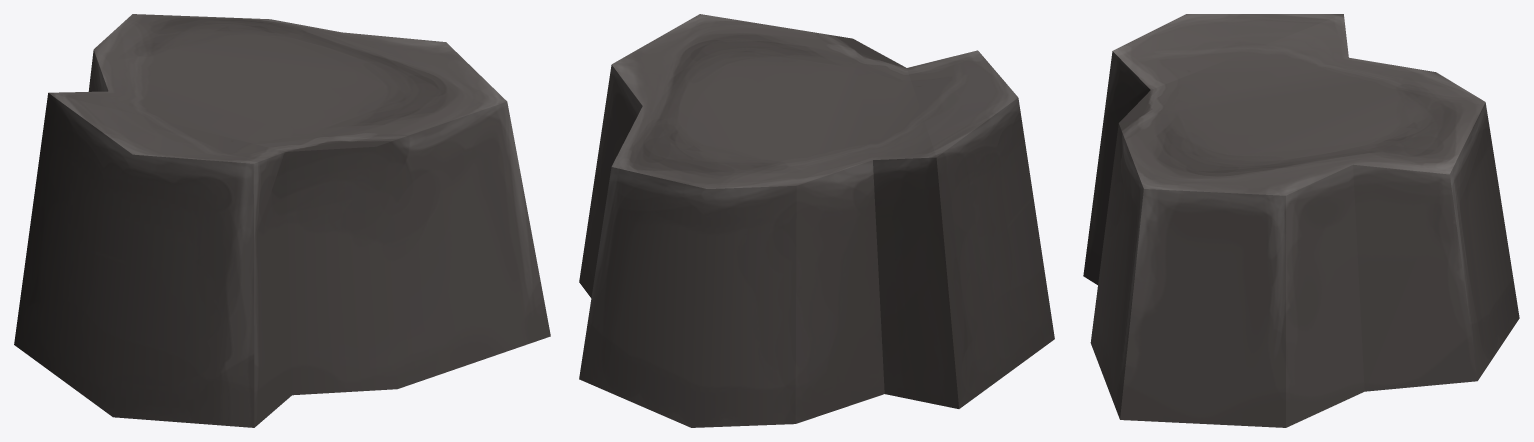
File: Rock_1.FBX
The picture shows the model from 3 angles, left to right: view 1: azimuth 30°, elevation 25°; view 2: azimuth 150°, elevation 25°; view 3: azimuth 270°, elevation 25°; orthographic projection. The views are drawn at different scales.
Visible parts, largest first — view 1: Rock_1; view 2: Rock_1; view 3: Rock_1.
Part boxes in pixels (box(x1,y1,x2,y2)): Rock_1: box(14, 14, 550, 427); Rock_1: box(579, 14, 1054, 427); Rock_1: box(1083, 14, 1519, 427).
Bounding box in the file's own units: 1.07 × 0.5914 × 1.01.
